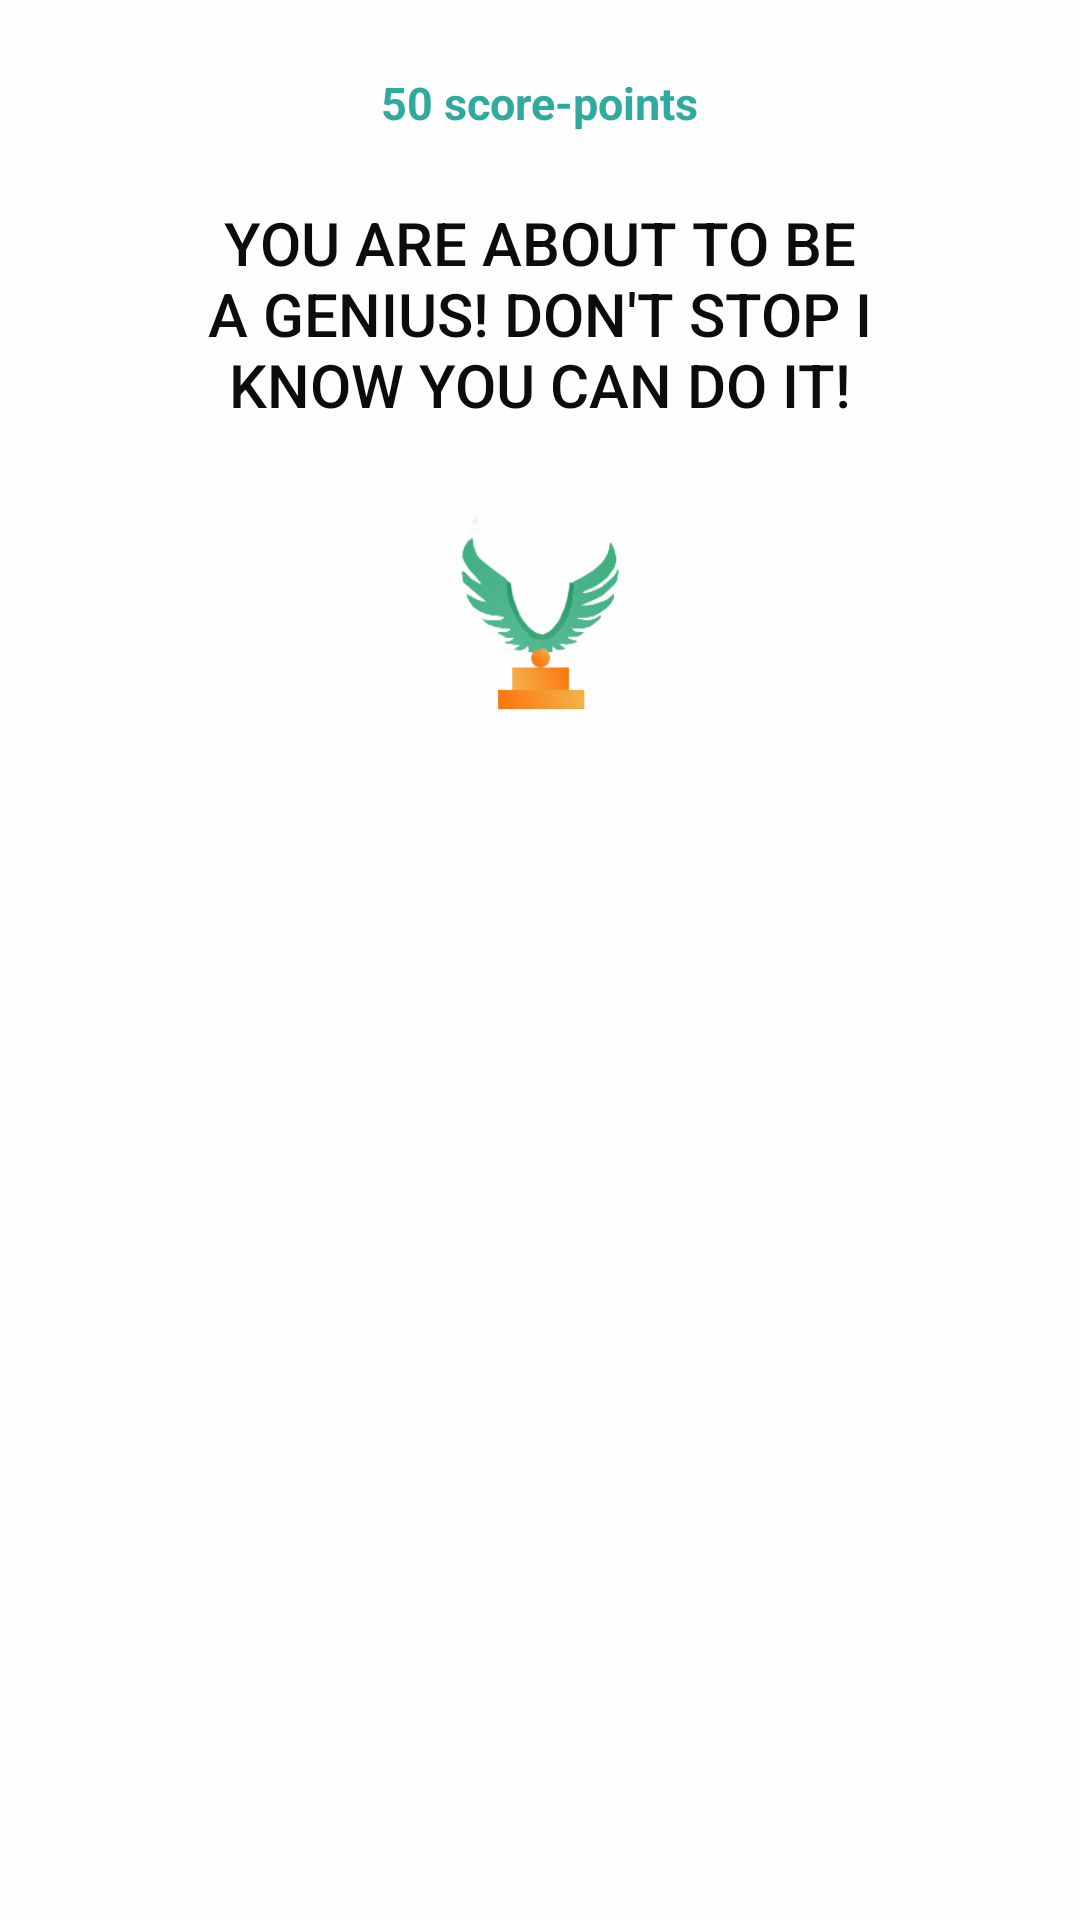

Point at icon controls on the screen. Image size 1080px x 1920px, points as point (x, y).
trophy: point (540, 614)
